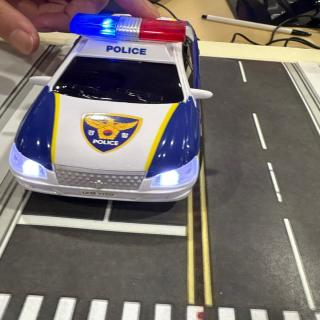Police_car: (9, 14, 212, 201)
